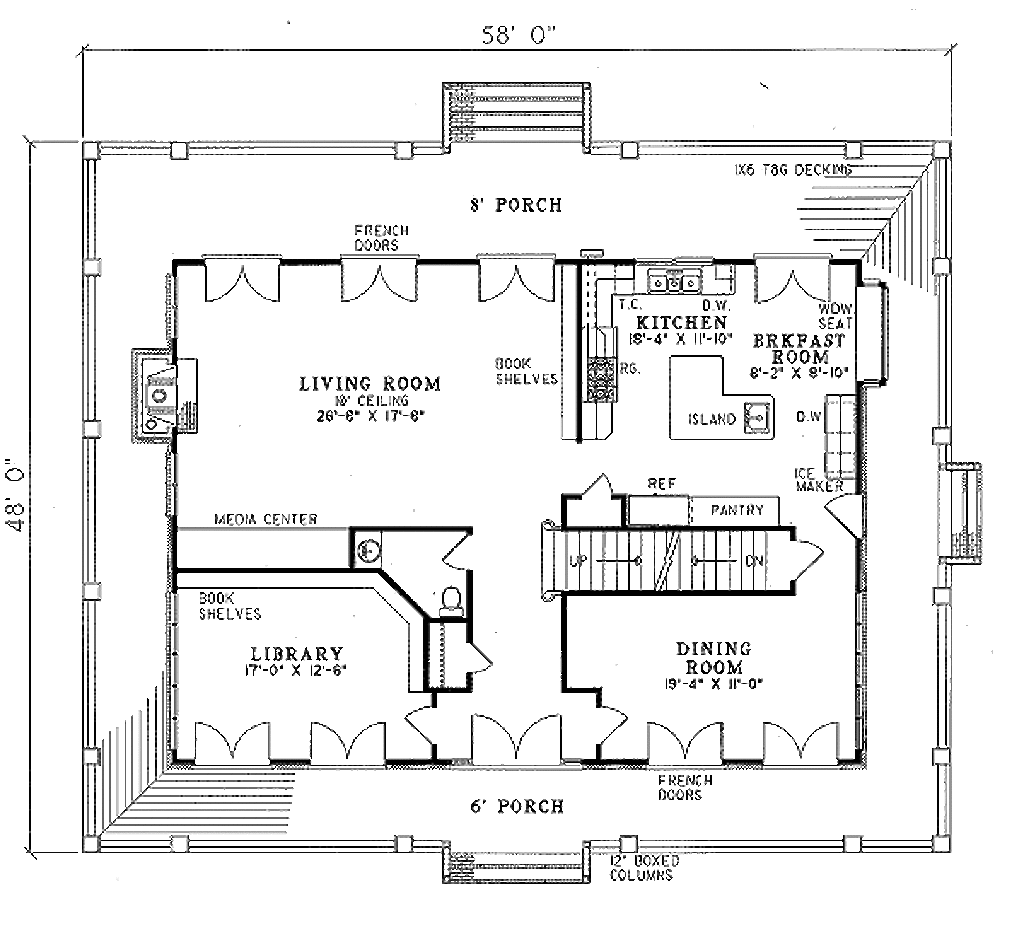door: (465, 709, 566, 768), (199, 253, 285, 309), (750, 253, 836, 304), (337, 251, 421, 303), (475, 251, 559, 303), (305, 718, 393, 766), (643, 721, 728, 769), (192, 719, 277, 763), (758, 721, 841, 764), (824, 491, 867, 540)
kitchen_bar: (666, 348, 781, 444)
large_sink: (434, 580, 468, 619)
small_sink: (352, 527, 383, 572)
stairs: (536, 520, 794, 604), (440, 79, 594, 156)
twin_sink: (644, 268, 703, 297)
